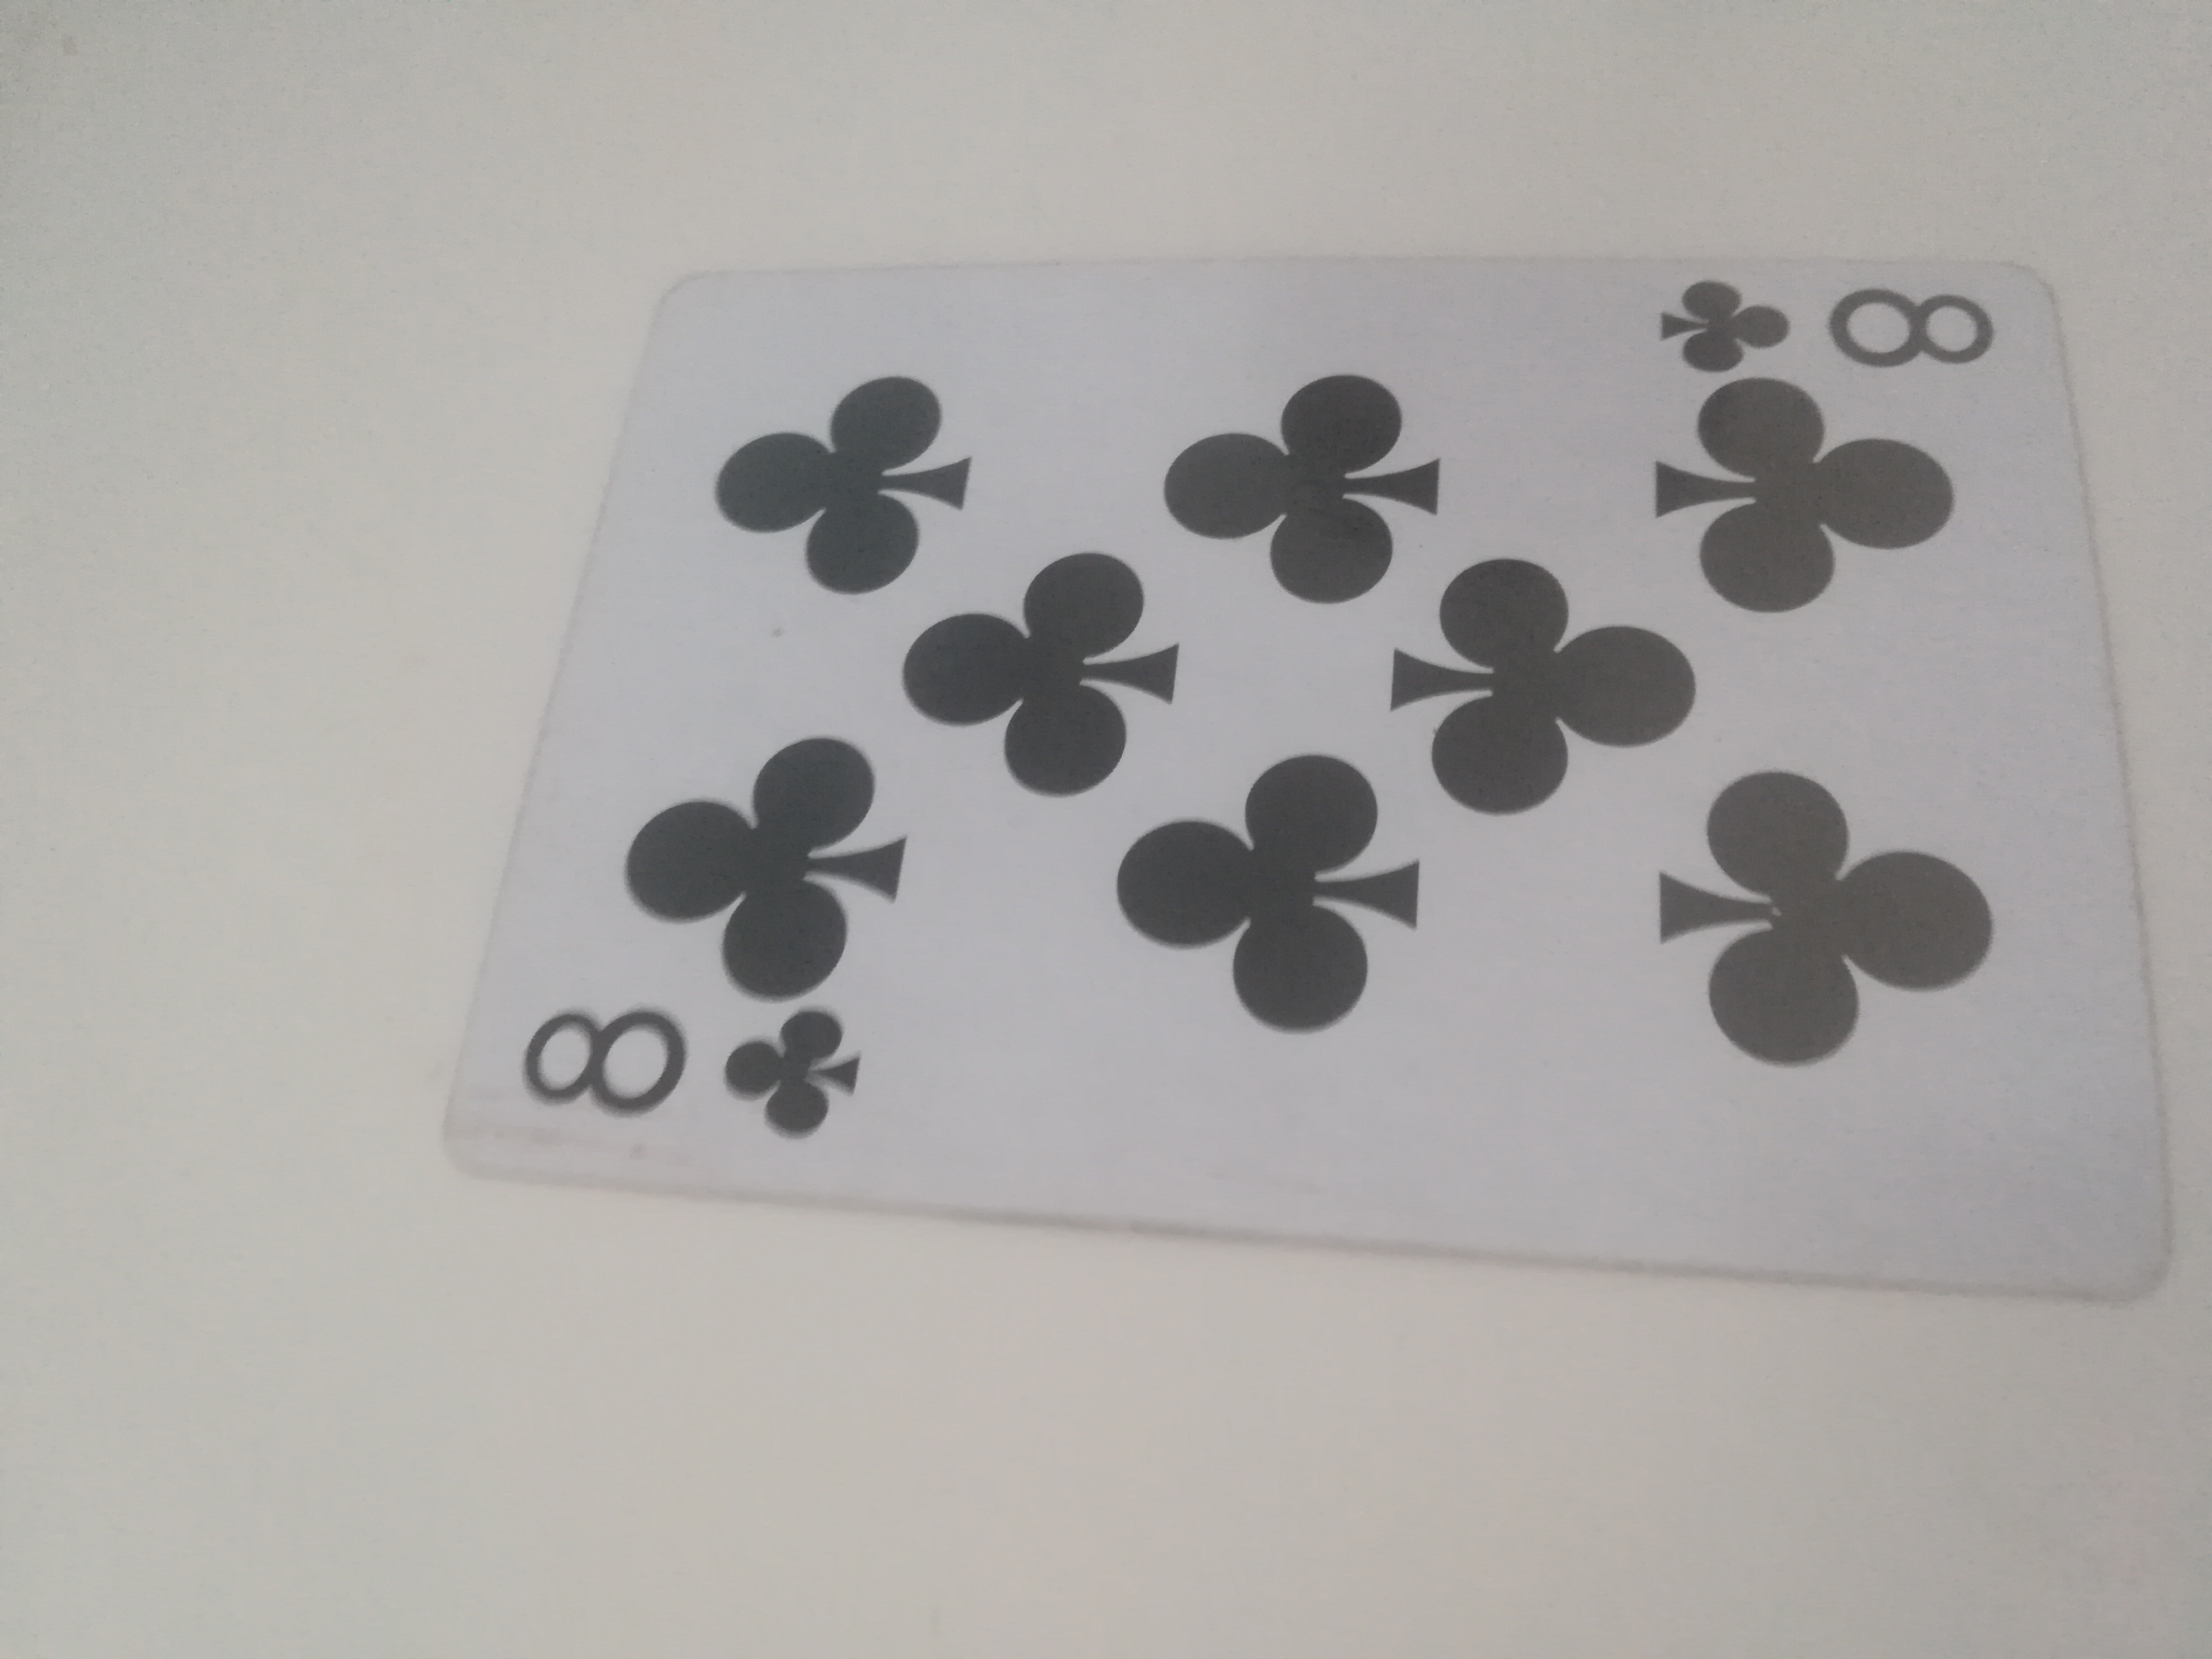8C: (439, 239, 2172, 1312)
